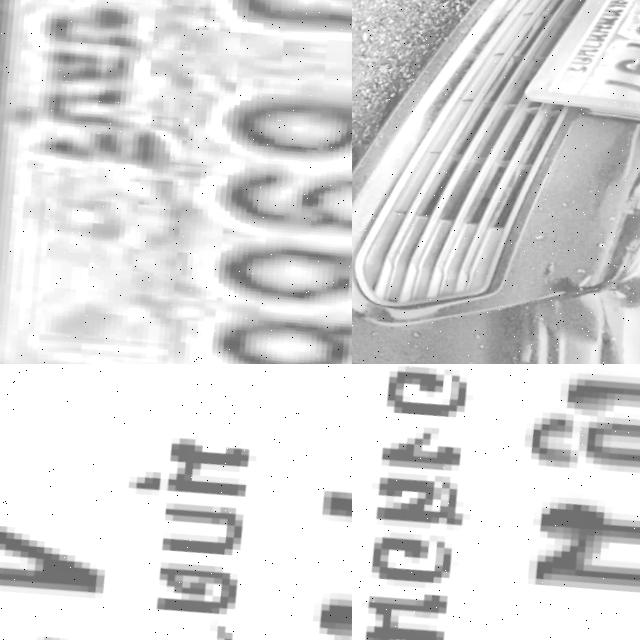license-plate: (0, 0, 352, 364), (0, 364, 352, 640), (352, 364, 640, 640), (503, 0, 640, 147)
